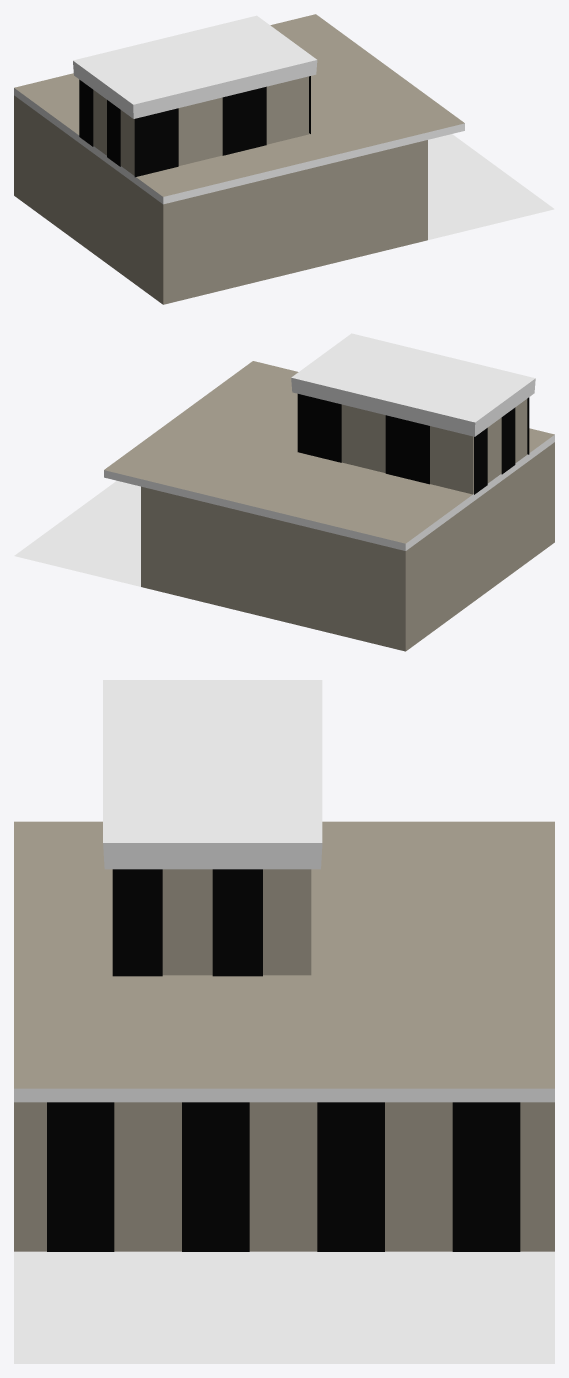
Rendered from APBuildingB.fbx.
3 views of the same model, one above another, from view 1: azimuth 30°, elevation 25°; view 2: azimuth 150°, elevation 25°; view 3: azimuth 270°, elevation 25° (orthographic). The views are drawn at different scales.
Parts seen in each view (by area): view 1: APBuildingB; view 2: APBuildingB; view 3: APBuildingB.
Part boxes in pixels (box(x1,y1,x2,y2)): APBuildingB: box(14, 14, 554, 304); APBuildingB: box(14, 333, 554, 651); APBuildingB: box(14, 680, 554, 1363).
Bounding box in the file's own units: 3844 × 1697 × 2502.
Materials: 1 (1 with a texture image).
